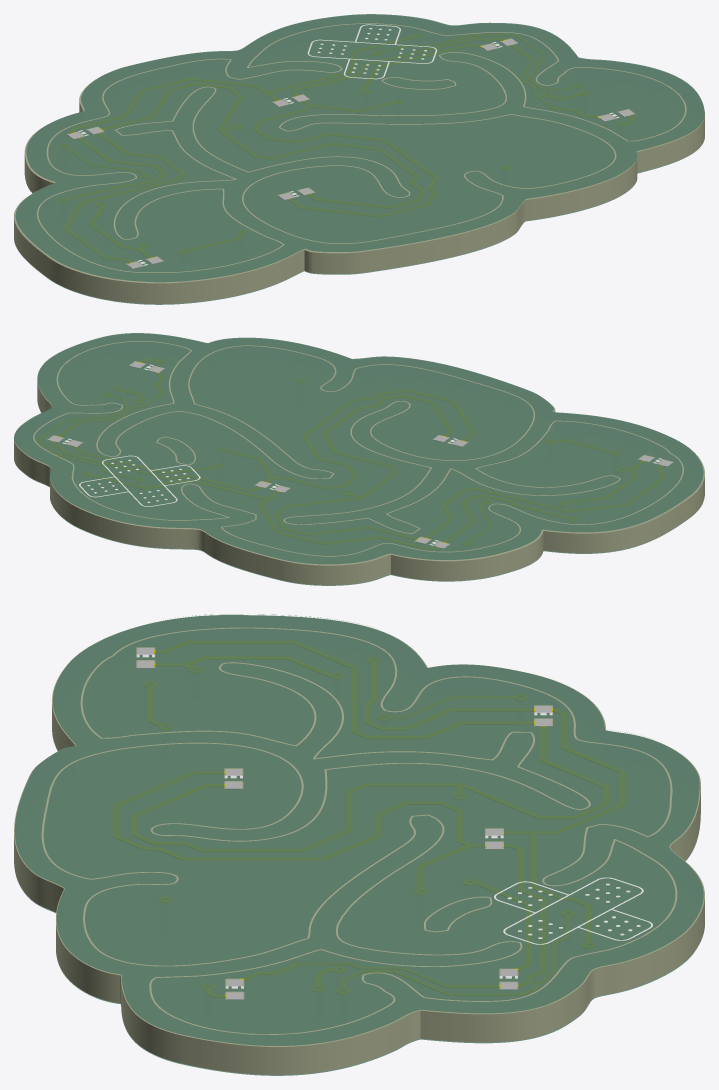
The model's file is brainy-the-brain-badge.glb.
3 views of the same model, one above another, from view 1: azimuth 30°, elevation 25°; view 2: azimuth 150°, elevation 25°; view 3: azimuth 270°, elevation 25° (orthographic). The views are drawn at different scales.
Parts seen in each view (by area): view 1: =>[0:1:1:9], =>[0:1:1:7], =>[0:1:1:2], =>[0:1:1:5]; view 2: =>[0:1:1:9], =>[0:1:1:7], =>[0:1:1:2], =>[0:1:1:5]; view 3: =>[0:1:1:9], =>[0:1:1:7], =>[0:1:1:2], =>[0:1:1:5].
Part boxes in pixels (box(x1,y1,x2,y2)): =>[0:1:1:9]: box(14, 15, 704, 304); =>[0:1:1:7]: box(14, 14, 704, 304); =>[0:1:1:2]: box(59, 34, 634, 268); =>[0:1:1:5]: box(78, 24, 619, 265); =>[0:1:1:9]: box(14, 334, 704, 585); =>[0:1:1:7]: box(14, 333, 703, 585); =>[0:1:1:2]: box(38, 359, 672, 549); =>[0:1:1:5]: box(62, 364, 662, 545); =>[0:1:1:9]: box(14, 615, 704, 1074); =>[0:1:1:7]: box(14, 614, 704, 1075); =>[0:1:1:2]: box(113, 641, 625, 999); =>[0:1:1:5]: box(136, 654, 652, 988).
Bounding box in the file's own units: 0.05 × 0.00166 × 0.0338.
4 materials, 4 textured.
